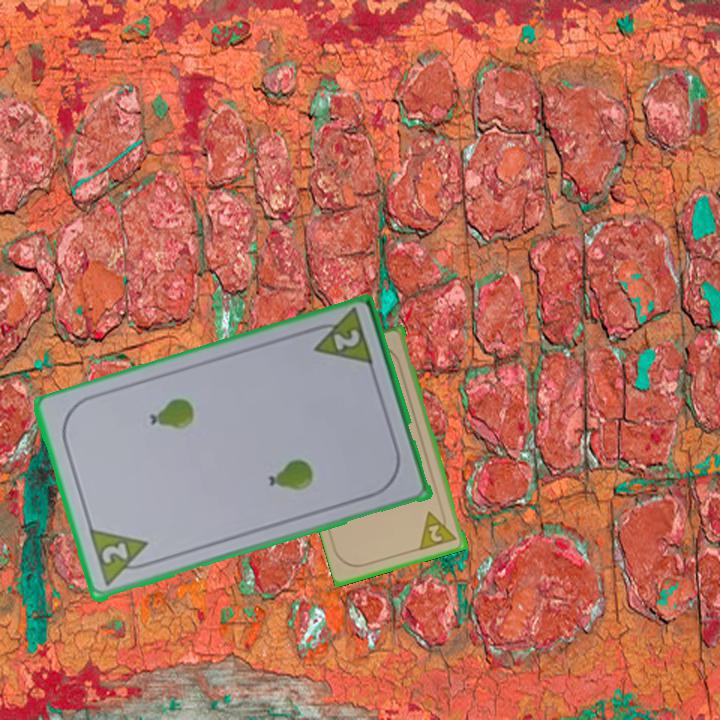2p: (304, 307, 377, 371), (85, 526, 157, 590), (417, 505, 461, 553)
